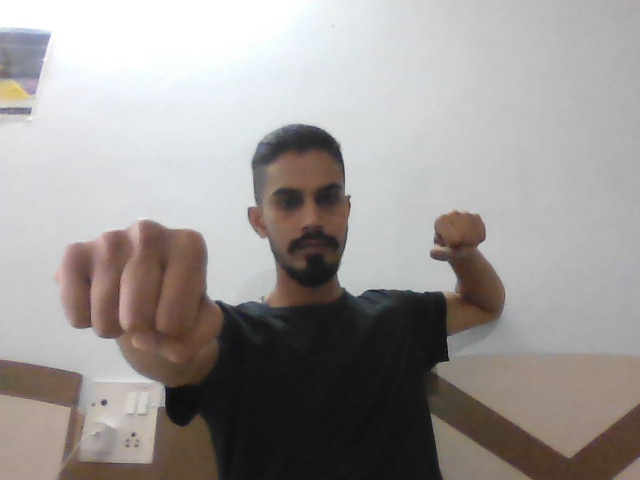Yes: (55, 219, 226, 367)
